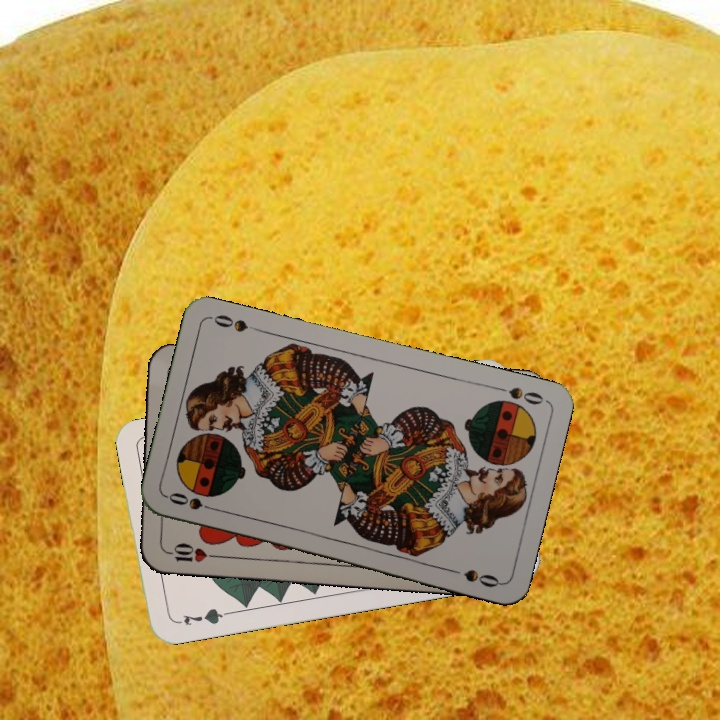G7: (172, 604, 230, 628)
H10: (160, 539, 219, 565)
SO: (164, 488, 222, 515), (490, 382, 547, 408)
